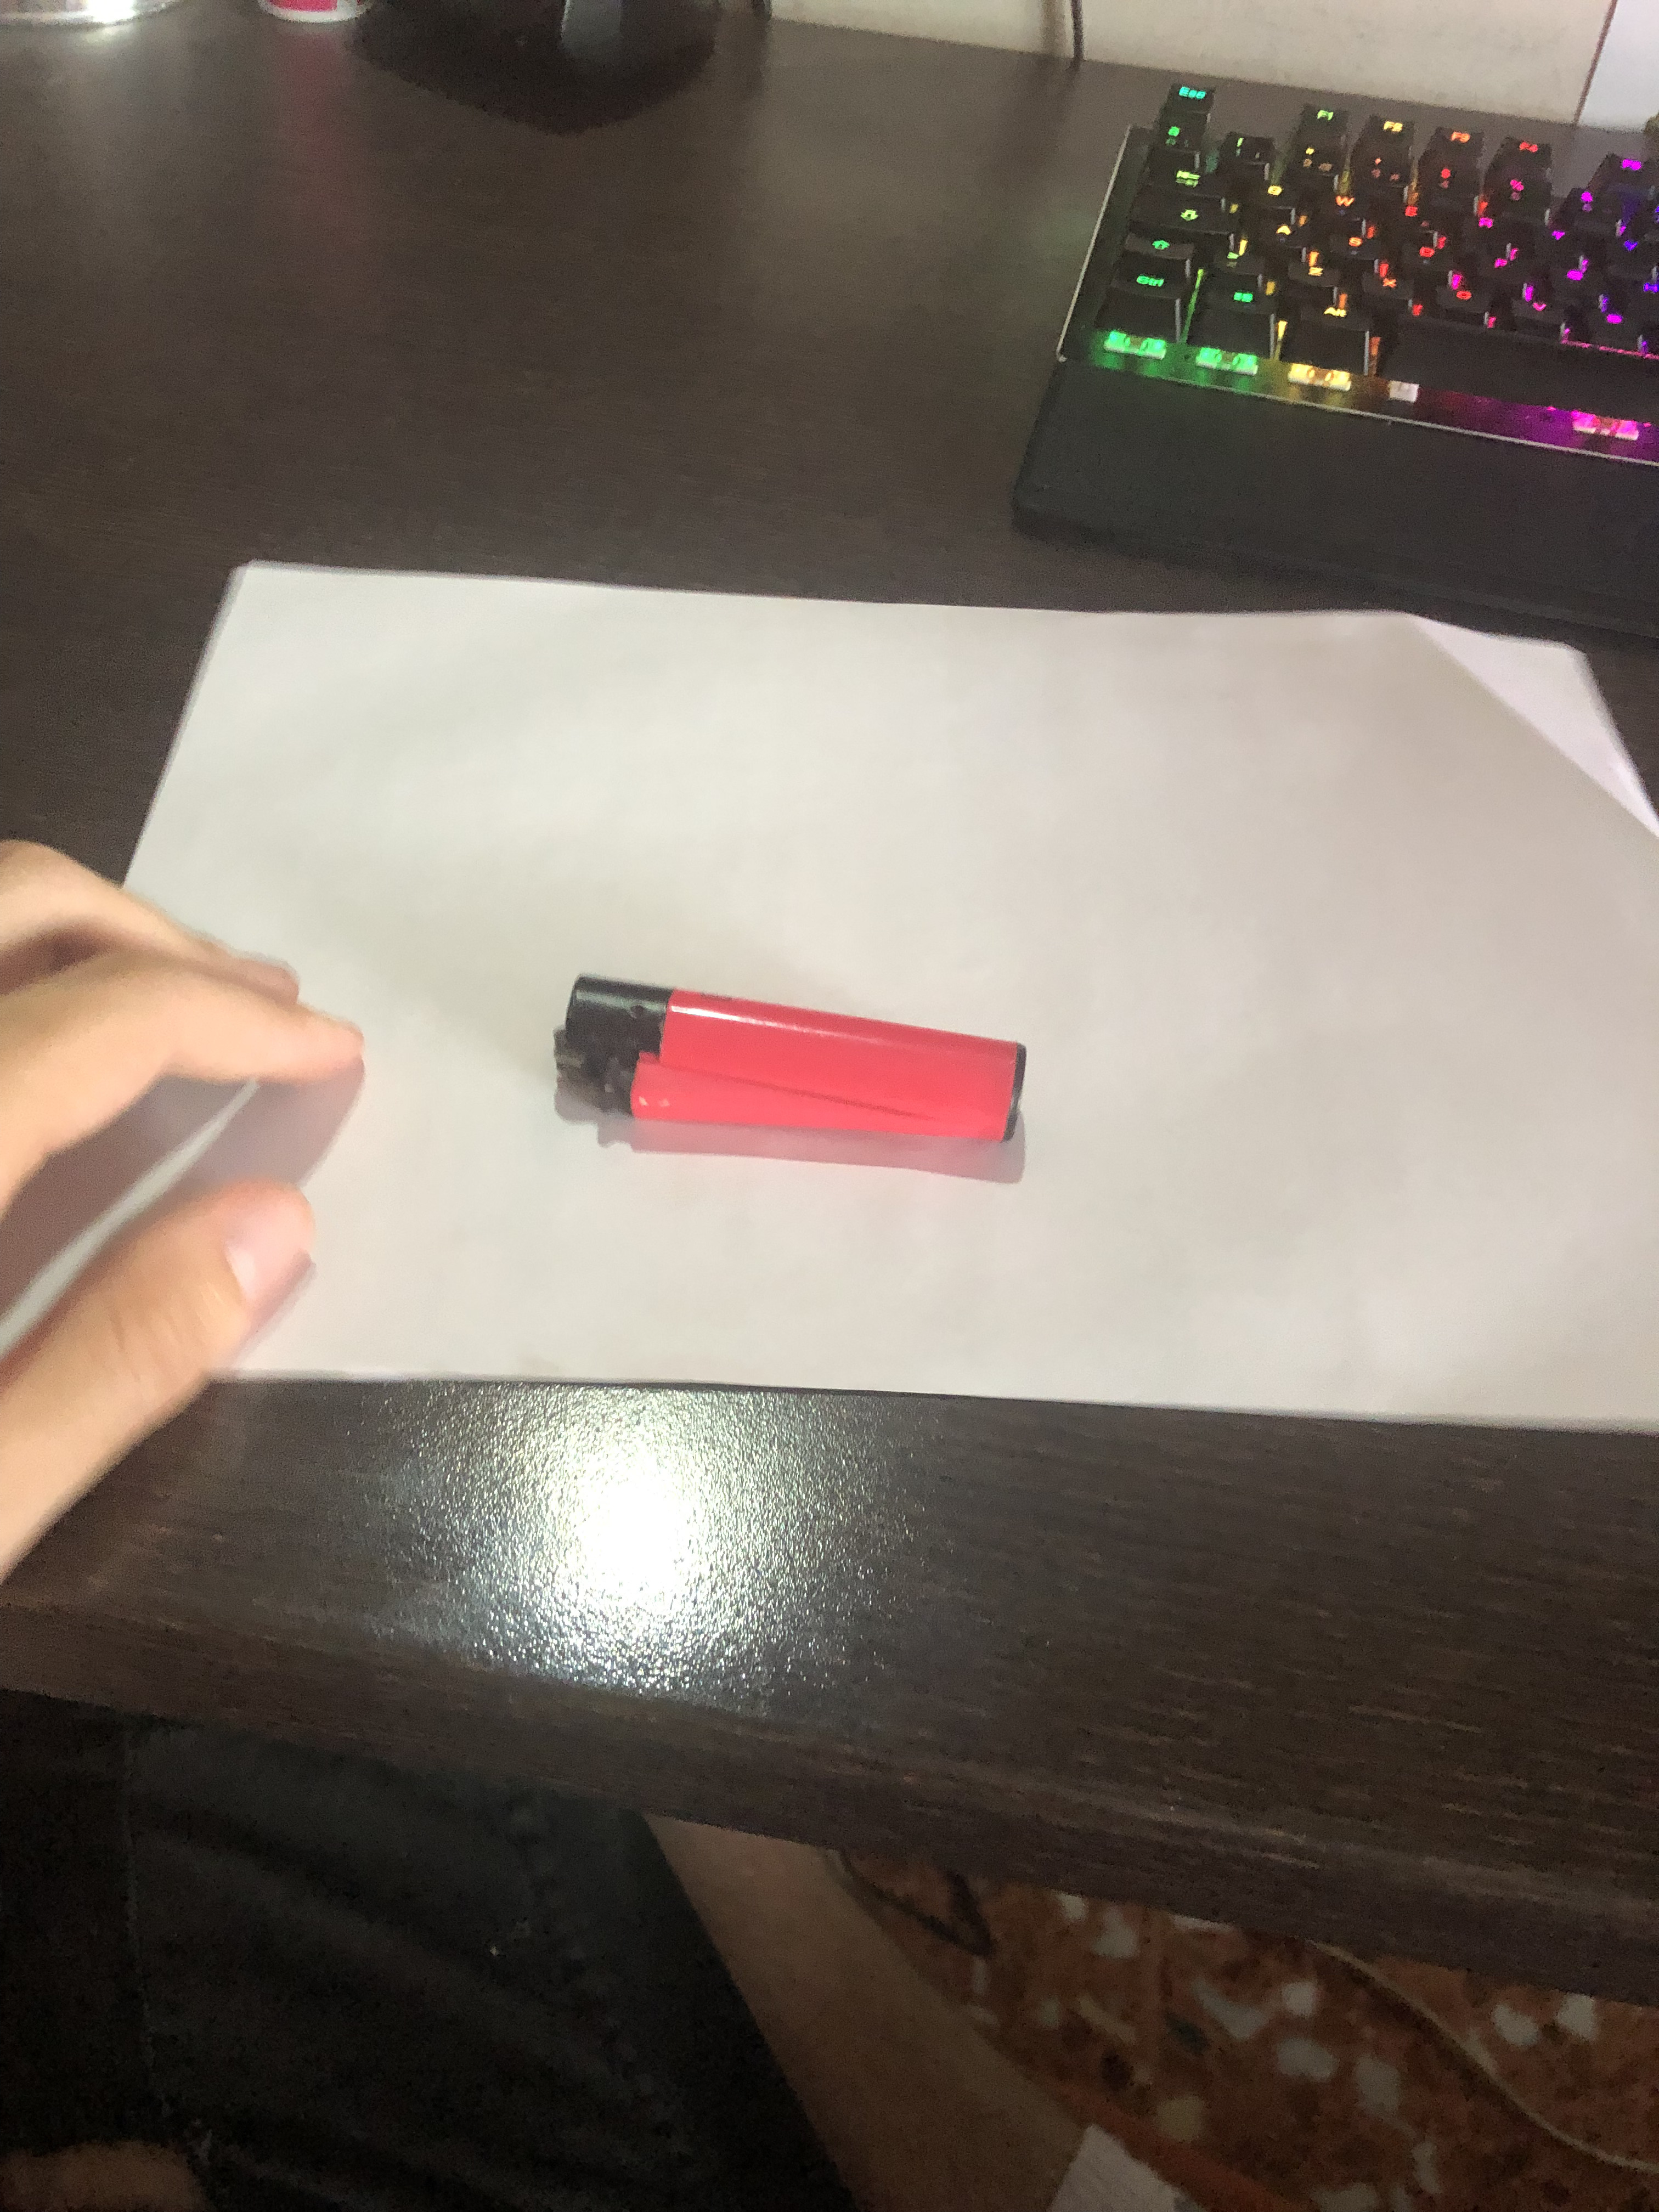Mechero: (552, 961, 1033, 1170)
